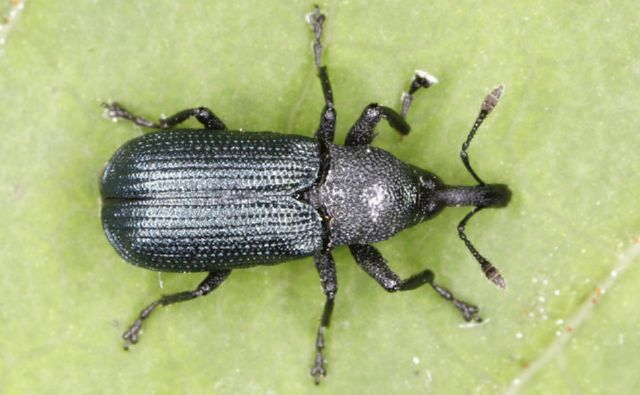dolgonosik: (92, 8, 518, 379)
